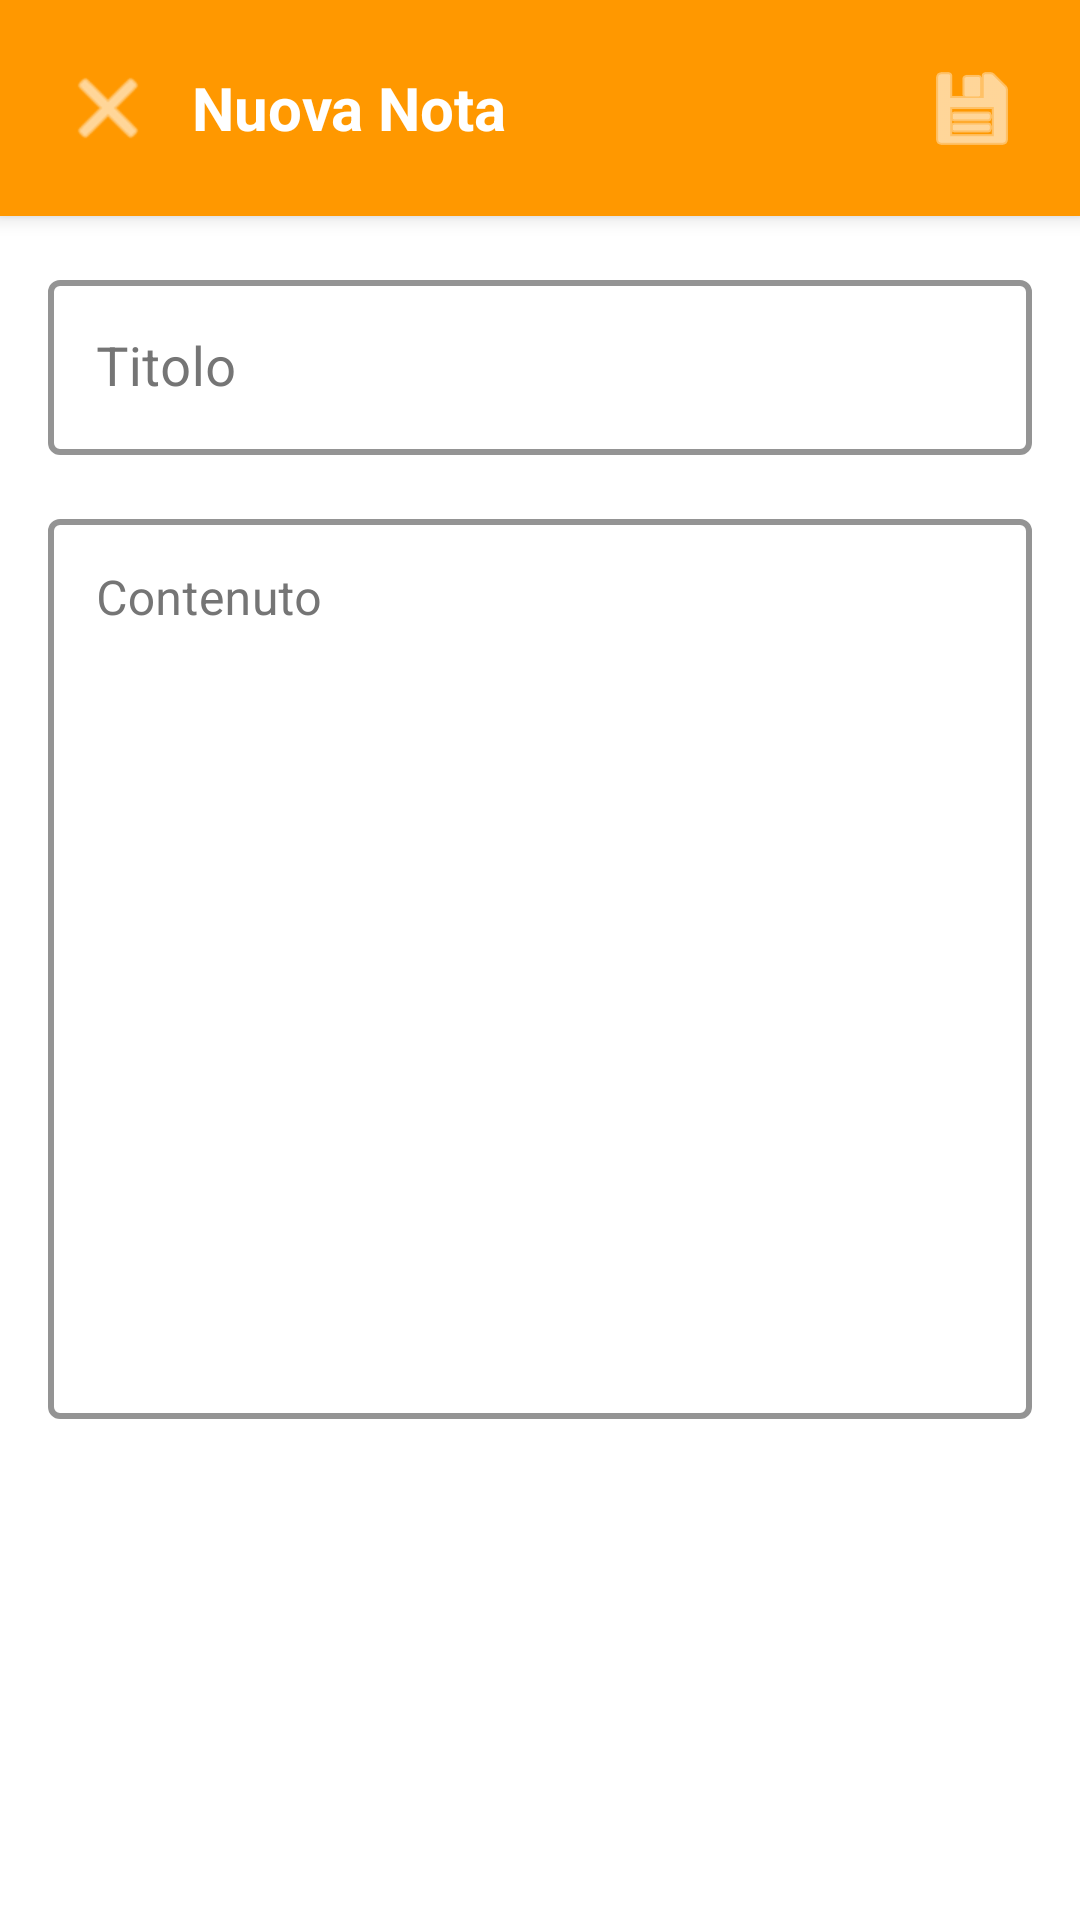

Where icons sit on this 1080×1920 app screen, as [left=x1, top=y1, right=x2, bottom=y2]:
Annulla: [left=78, top=78, right=138, bottom=138]
Salva: [left=936, top=72, right=1008, bottom=145]
